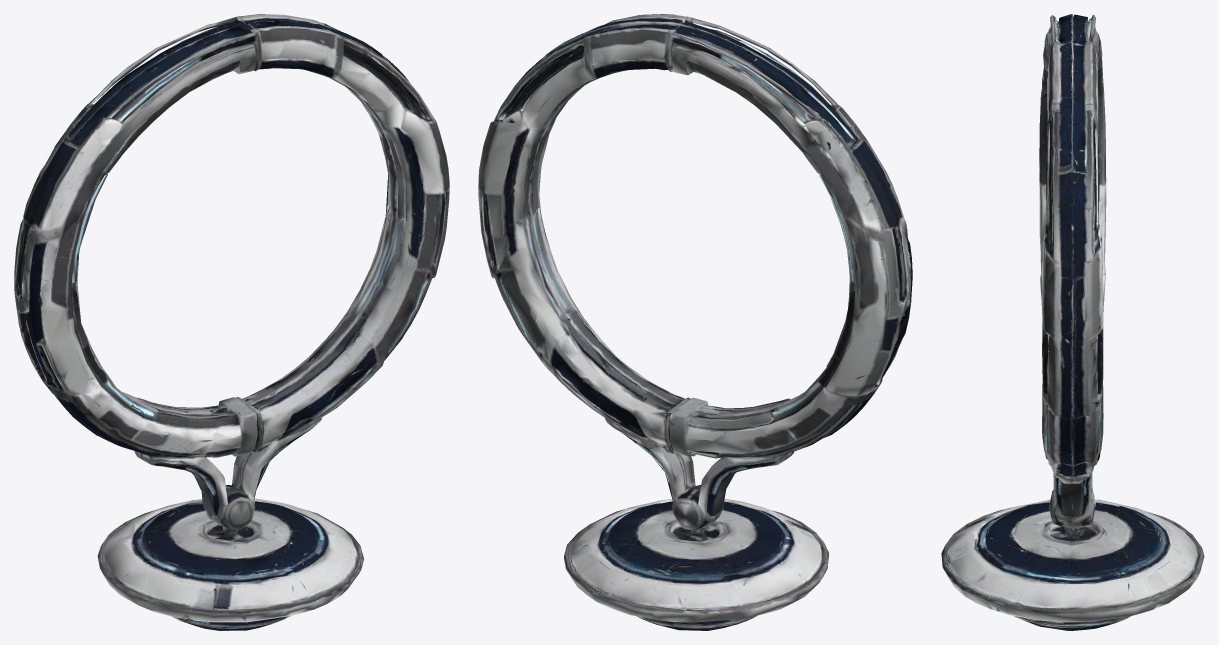
File: attention_mirror.glb
3 renders of one model, left to right at view 1: azimuth 30°, elevation 25°; view 2: azimuth 150°, elevation 25°; view 3: azimuth 270°, elevation 25°, orthographic.
Bounding box in the file's own units: 1.4 × 1.9 × 0.7711.
Materials: 1 (1 with a texture image).
